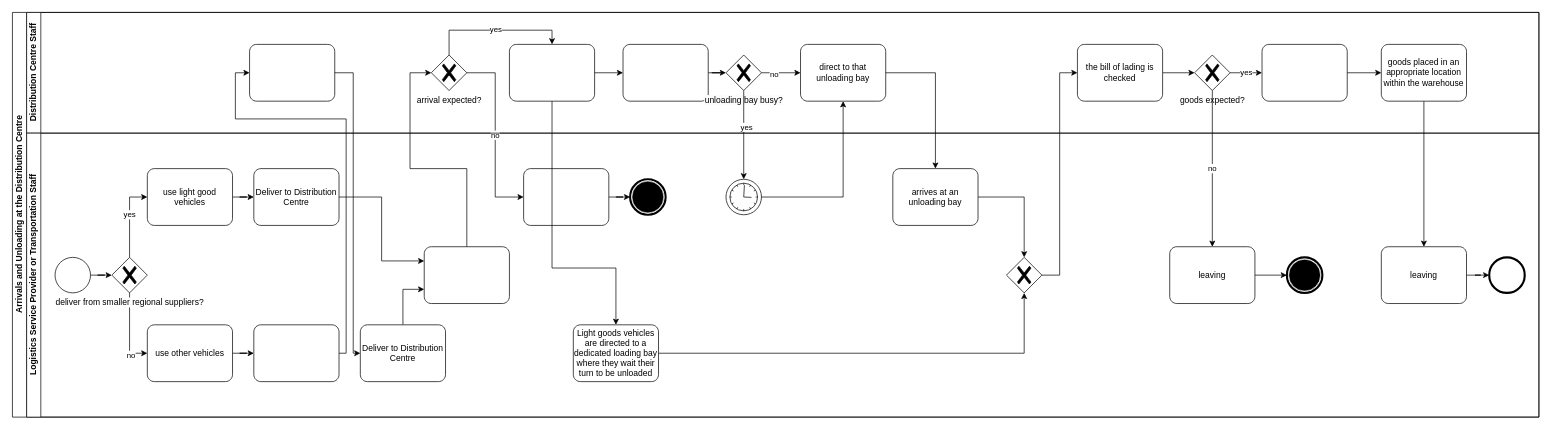
This 1551x430 diagram has some shape labels left out. Each missing label, with the box of its shape:
admitted to enter: (509, 44, 595, 101)
allocate an unloading bay: (622, 44, 708, 101)
arrange a time slot for arrival: (253, 324, 339, 382)
check in at the gate: (424, 246, 509, 304)
confirm the arrange: (249, 44, 335, 101)
end of deliver from smaller regional suppliers?: (1006, 257, 1042, 293)
Goods are unloaded: (1261, 44, 1347, 101)
leave: (523, 168, 609, 225)
wait: (725, 179, 761, 215)
